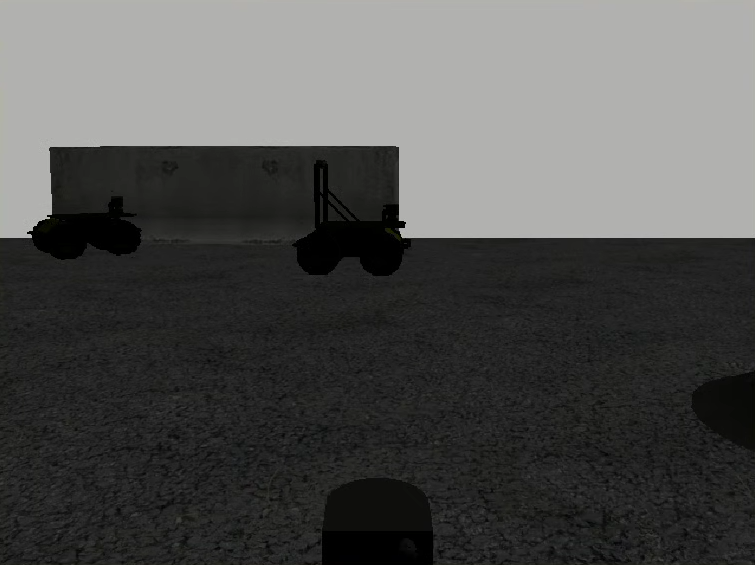husky: (291, 220, 412, 277), (27, 212, 141, 258)
